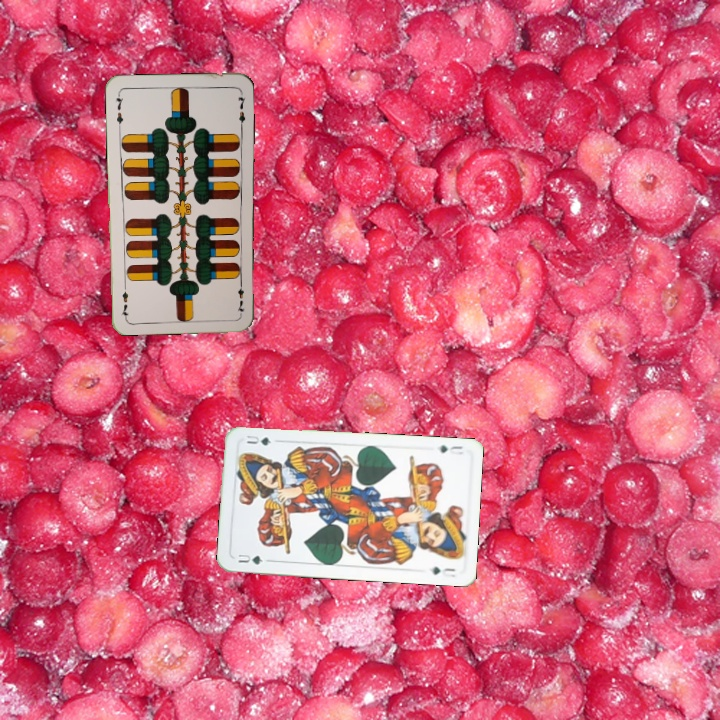E7: (112, 90, 125, 130), (234, 276, 247, 316)
GU: (432, 440, 465, 457), (234, 550, 265, 567)
